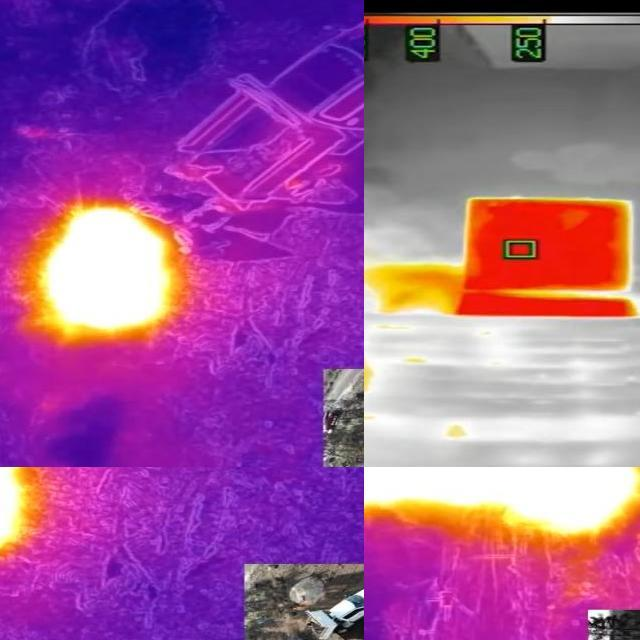fire: (19, 199, 191, 343), (365, 468, 640, 538), (374, 264, 470, 314), (1, 466, 44, 553)
